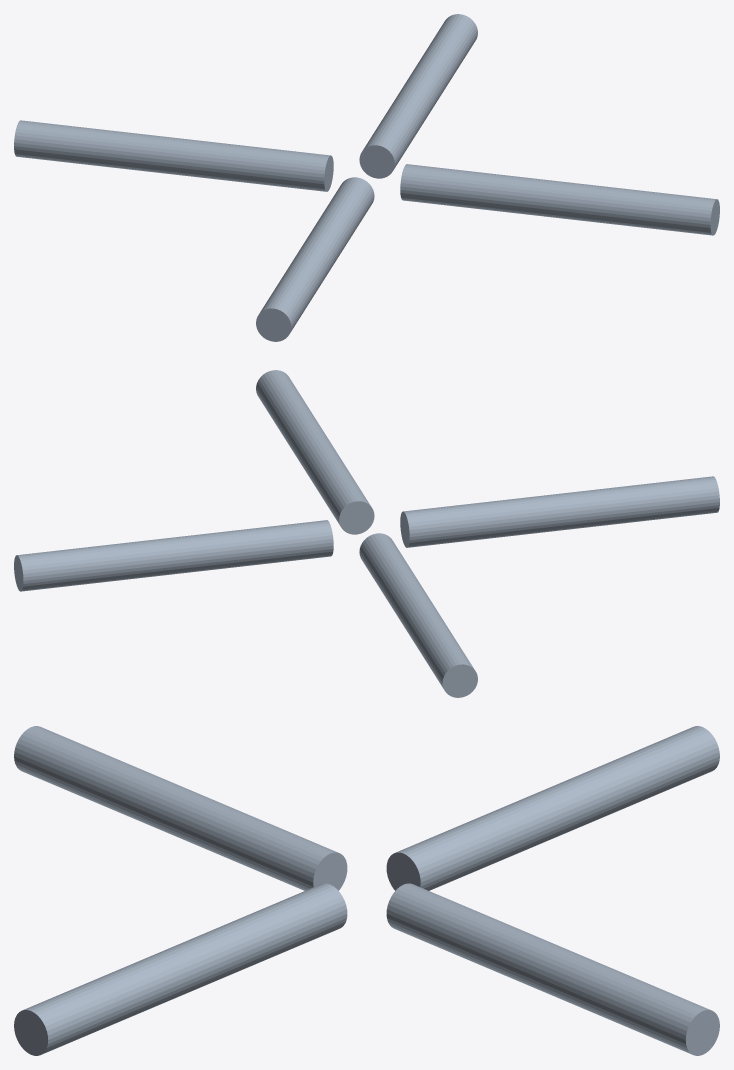
Rendered from SM_Rayons.obj.
The picture shows the model from 3 angles, top to bottom: view 1: azimuth 30°, elevation 25°; view 2: azimuth 150°, elevation 25°; view 3: azimuth 270°, elevation 25°; orthographic projection. The views are drawn at different scales.
Bounding box in the file's own units: 40871 × 2800 × 40871.
